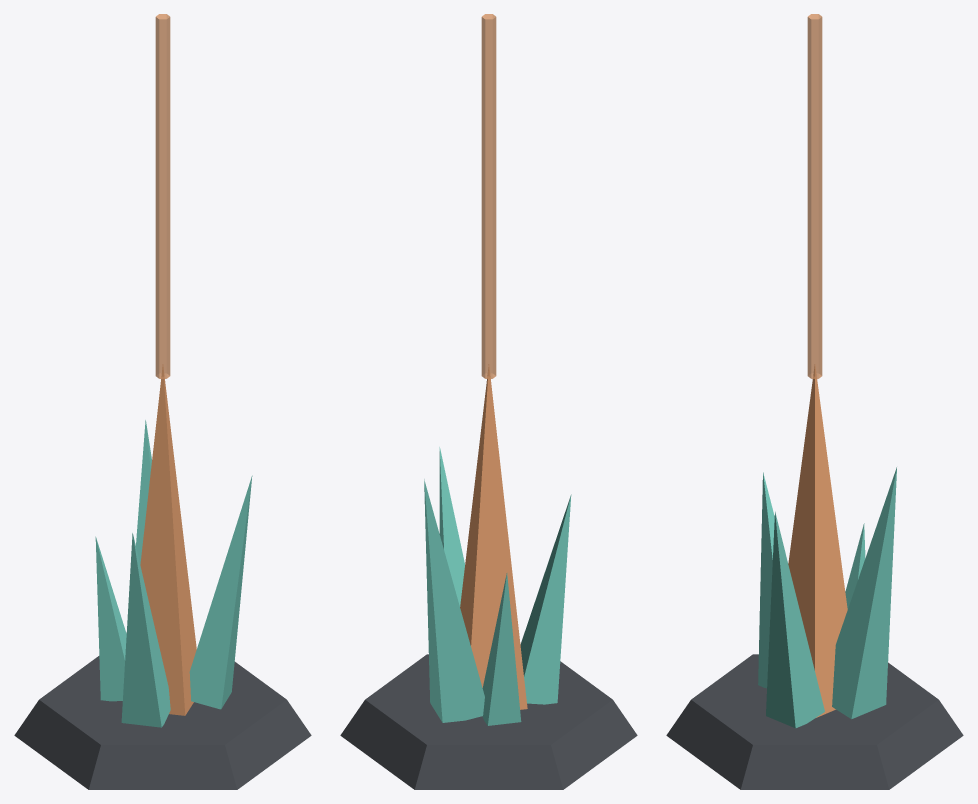
File: amp_shard.glb
3 renders of one model, left to right at view 1: azimuth 30°, elevation 25°; view 2: azimuth 150°, elevation 25°; view 3: azimuth 270°, elevation 25°, orthographic.
Parts seen in each view (by area): view 1: base, shard_0, shard_1, amp_beam, shard_2, shard_4, shard_3; view 2: base, shard_0, shard_3, amp_beam, shard_2, shard_4, shard_1; view 3: base, shard_0, shard_3, shard_1, amp_beam, shard_2, shard_4.
Boxes of the visible parts, box(x1,y1,x2,y2) form: base: box(14, 656, 311, 789); shard_0: box(140, 367, 196, 715); shard_1: box(189, 475, 252, 709); amp_beam: box(155, 14, 170, 378); shard_2: box(121, 533, 170, 727); shard_4: box(95, 536, 126, 701); shard_3: box(136, 420, 151, 564); base: box(340, 654, 637, 789); shard_0: box(460, 367, 527, 709); shard_3: box(424, 479, 484, 722); amp_beam: box(481, 14, 496, 378); shard_2: box(520, 494, 571, 704); shard_4: box(482, 573, 521, 725); shard_1: box(439, 447, 464, 606); base: box(666, 654, 963, 789); shard_0: box(788, 366, 847, 717); shard_3: box(832, 467, 896, 718); shard_1: box(766, 511, 824, 728); amp_beam: box(807, 14, 822, 378); shard_2: box(758, 472, 774, 688); shard_4: box(845, 523, 865, 609).
Bounding box in the file's own units: 0.5196 × 1.6 × 0.6.
